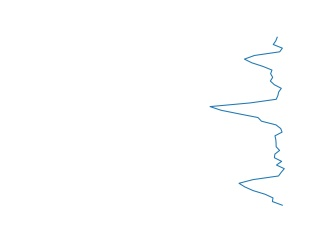underwaterNaturalLevee: (201, 37, 288, 207)
